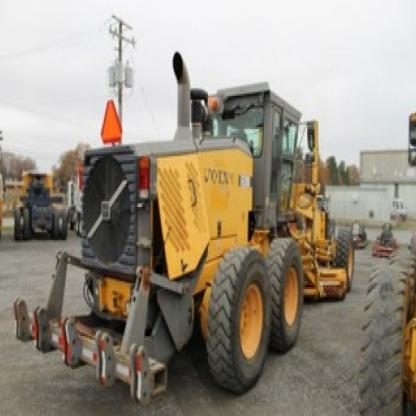bull_dozer/loader/grader: (42, 52, 356, 389)
